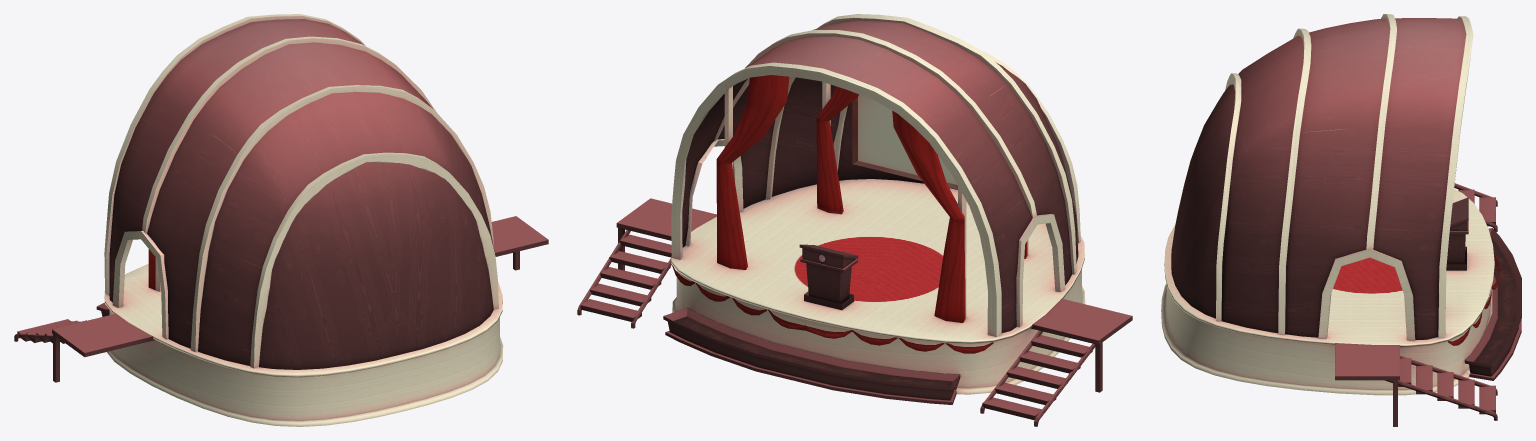
Rendered from CCAD_stage_v4.fbx.
3 renders of one model, left to right at view 1: azimuth 30°, elevation 25°; view 2: azimuth 150°, elevation 25°; view 3: azimuth 270°, elevation 25°, orthographic. The views are drawn at different scales.
Parts seen in each view (by area): view 1: group4; view 2: group4; view 3: group4.
Part boxes in pixels (x1,y1,x2,y2): group4: [14, 14, 548, 426]; group4: [577, 14, 1132, 426]; group4: [1161, 14, 1521, 426].
Size of the model in its own units: 22.78 by 13.45 by 15.37.
1 material, 1 textured.
